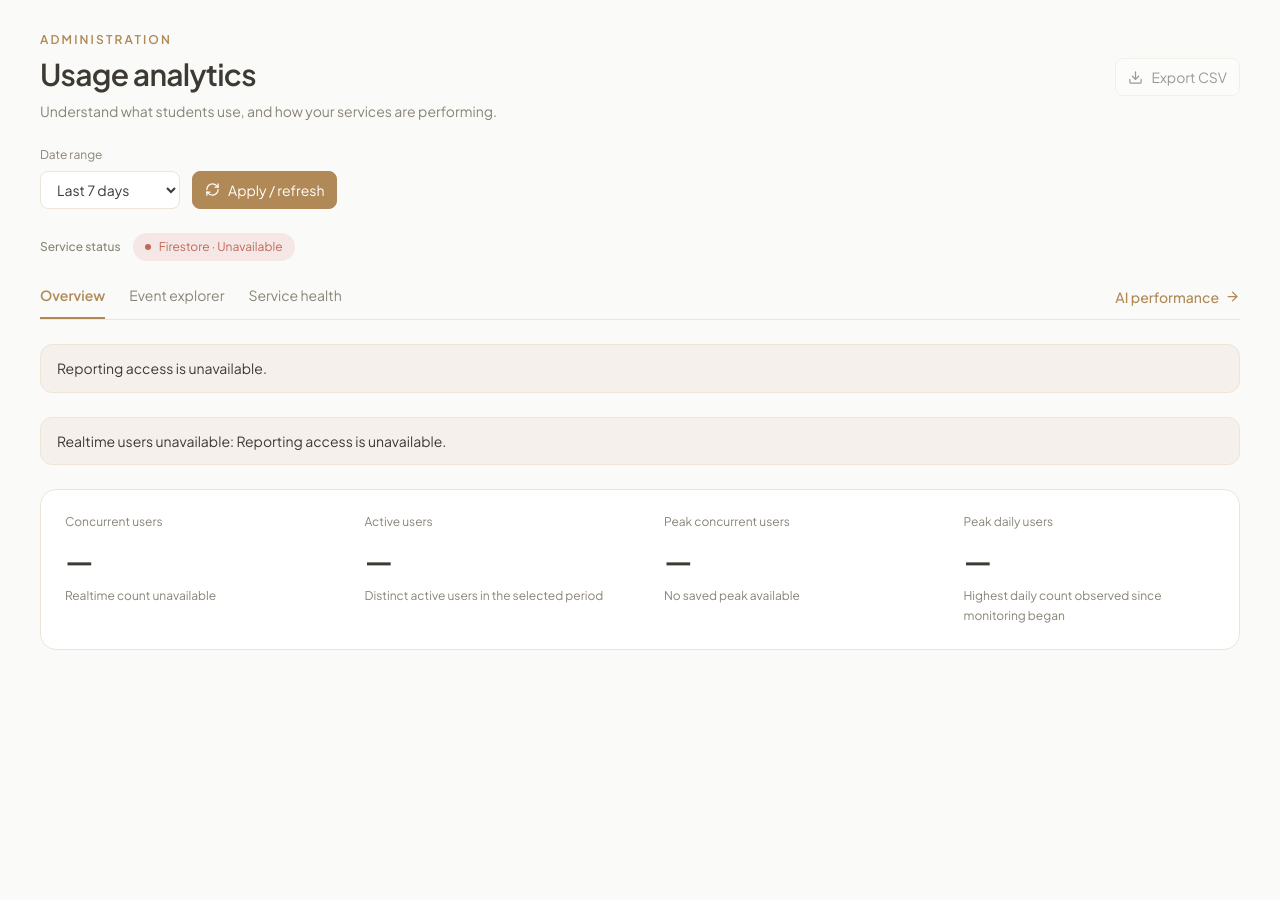
Scenario: lets admins inspect service health when GA4 is unavailable
This screenshot has width=1280, height=900.
Expected: the text "Reporting access is unavailable." is shown, [40, 344, 1240, 393]
Step 1. Click the button "Service health" → x=295, y=302, box [248, 285, 342, 319]
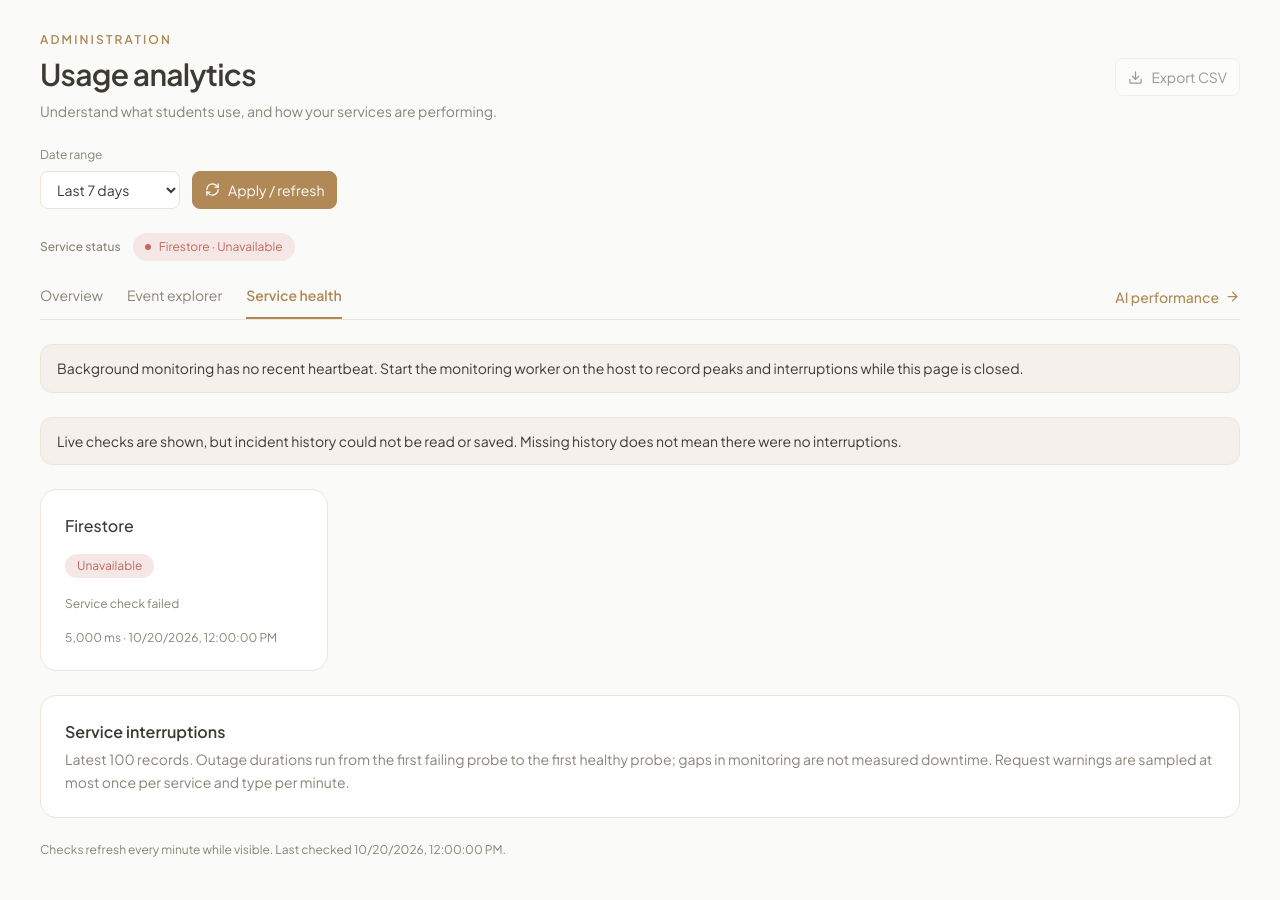
Result: the text "Service check failed" is shown at [65, 596, 179, 611]
